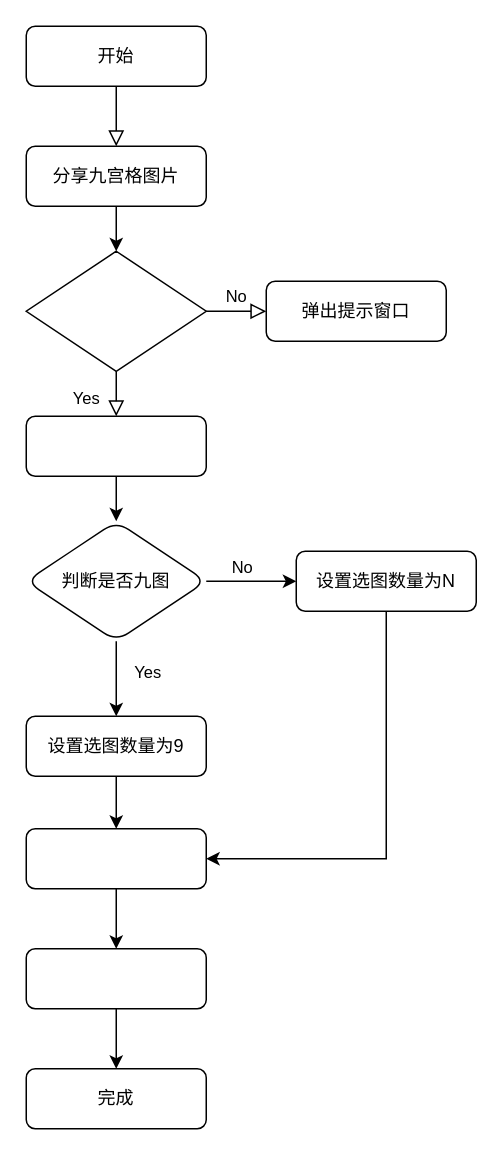
Image size: 503x1155. Some labels were removed from this diagram. Each missing label, with the centre of its shape:
停止服务: (115,978)
判断服务是否开启: (115,310)
打开页面选择图片: (115,858)
调用服务: (115,445)
